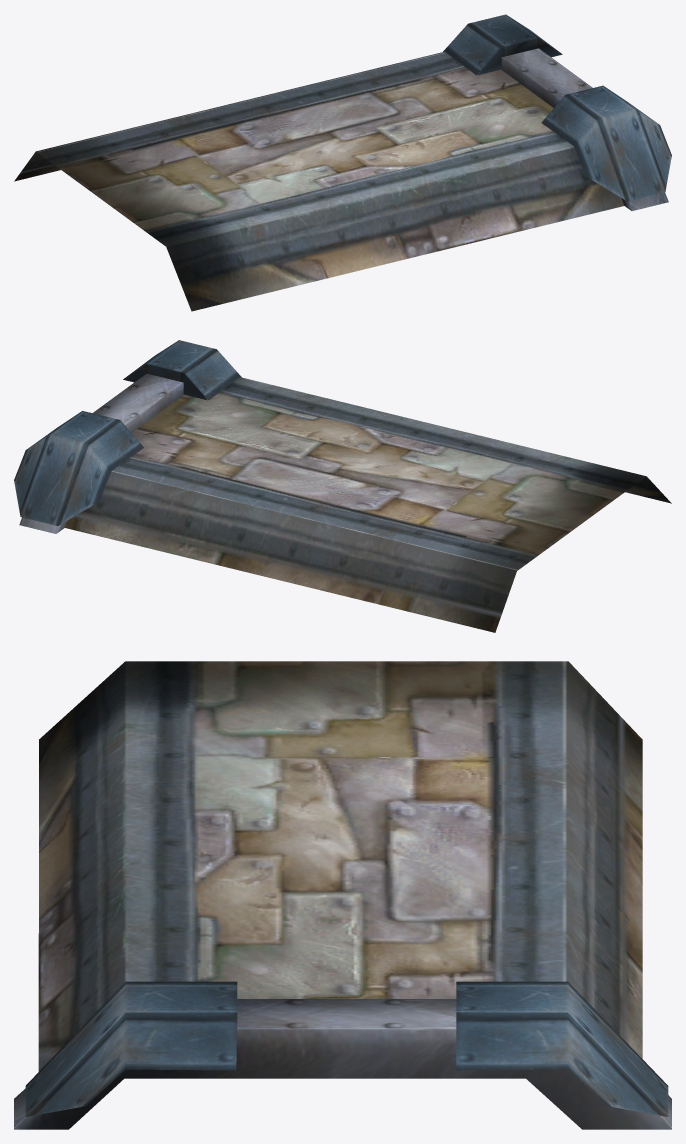
The model's file is obj_madaprroad1802.glb.
3 renders of one model, top to bottom at view 1: azimuth 30°, elevation 25°; view 2: azimuth 150°, elevation 25°; view 3: azimuth 270°, elevation 25°, orthographic. The views are drawn at different scales.
Parts seen in each view (by area): view 1: part_0; view 2: part_0; view 3: part_0.
Part boxes in pixels (left/top/right/bottom): part_0: left=14, top=14, right=671, bottom=311; part_0: left=14, top=340, right=671, bottom=632; part_0: left=14, top=661, right=671, bottom=1129.
Bounding box in the file's own units: 8.76 × 1.16 × 5.94.
Materials: 1 (1 with a texture image).
